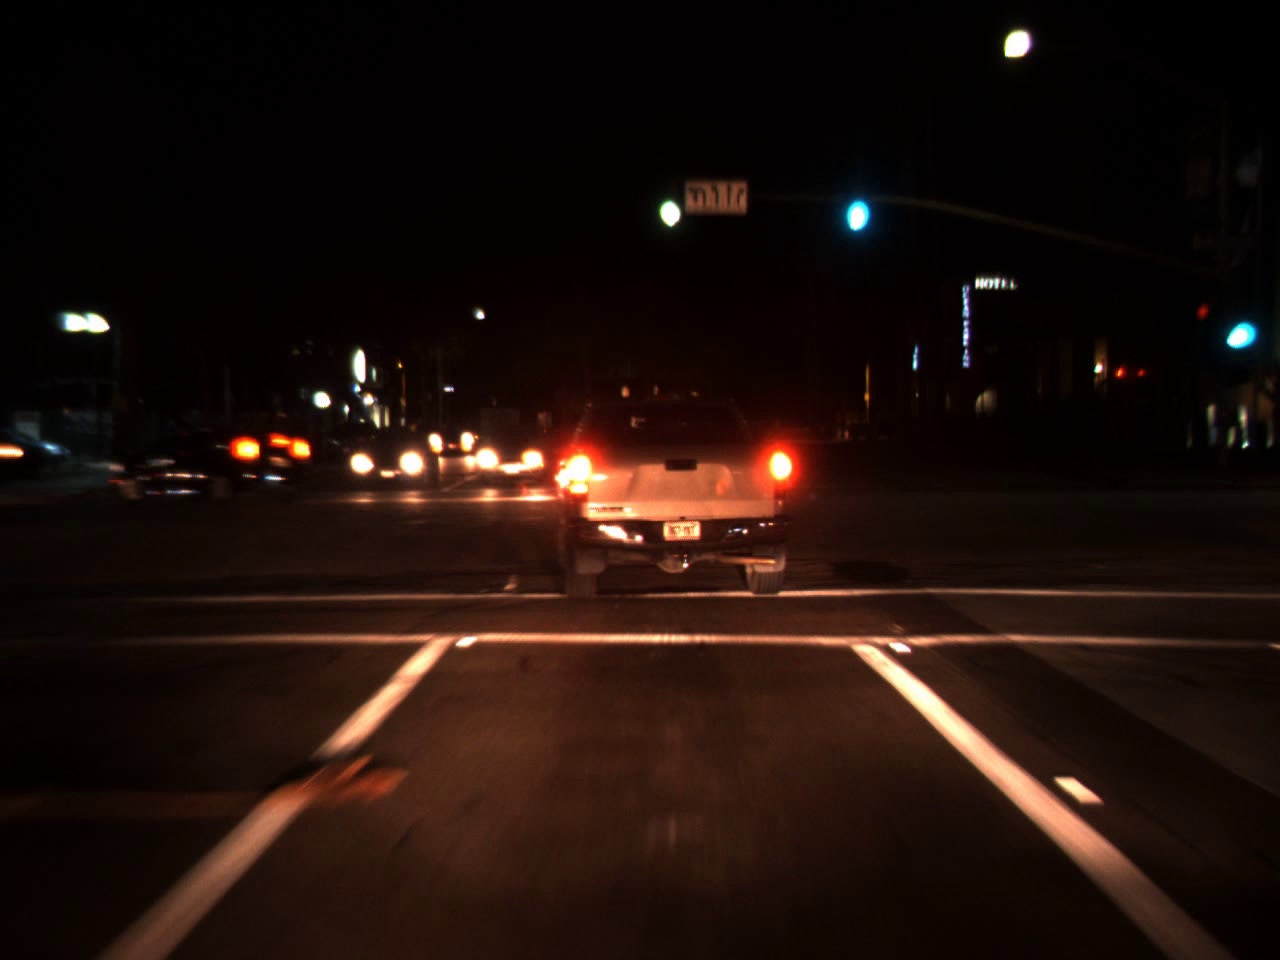go: (1218, 288, 1261, 360), (838, 161, 874, 242), (653, 168, 683, 237)
